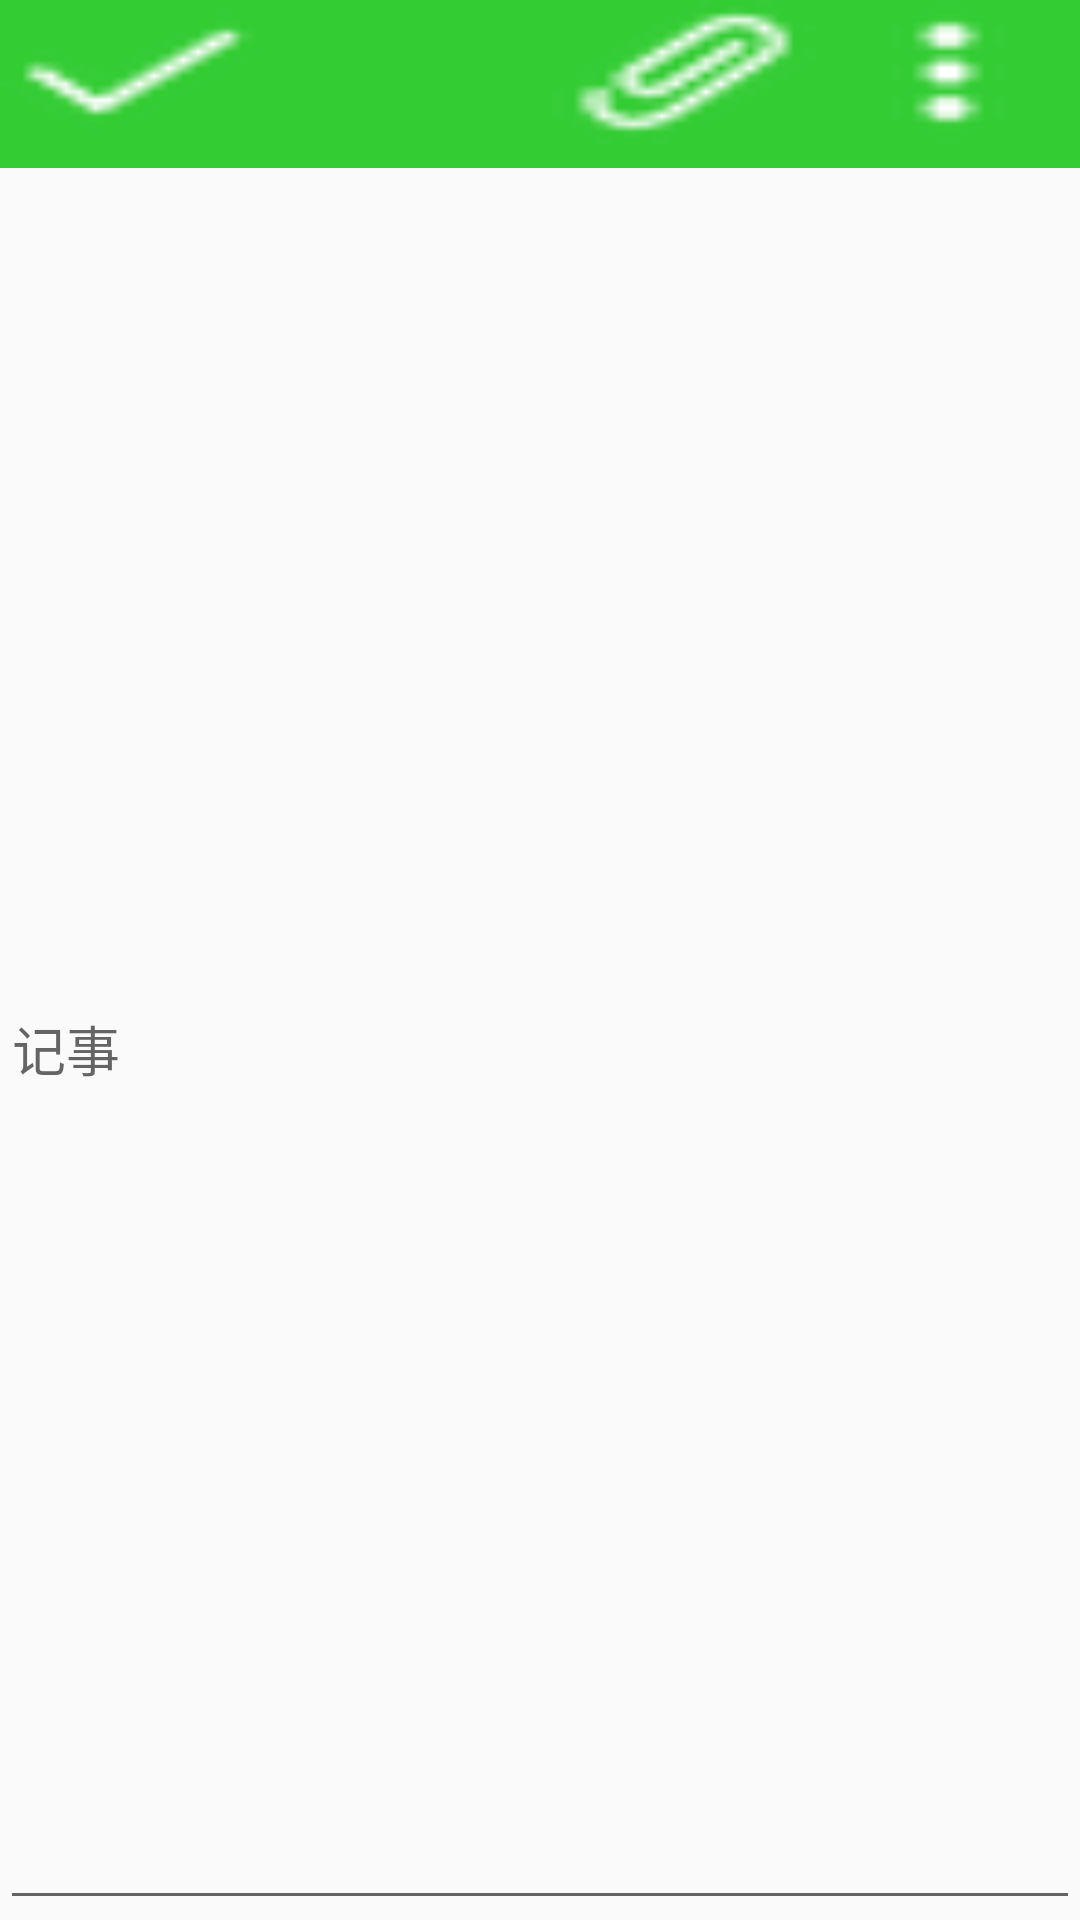

Locate icon controls on the screen. Image size 1080 x 1920, boxes as region(x1, y1, x2, y2).
attachment: region(577, 12, 792, 131)
complete: region(24, 28, 242, 115)
more: region(915, 21, 981, 123)
